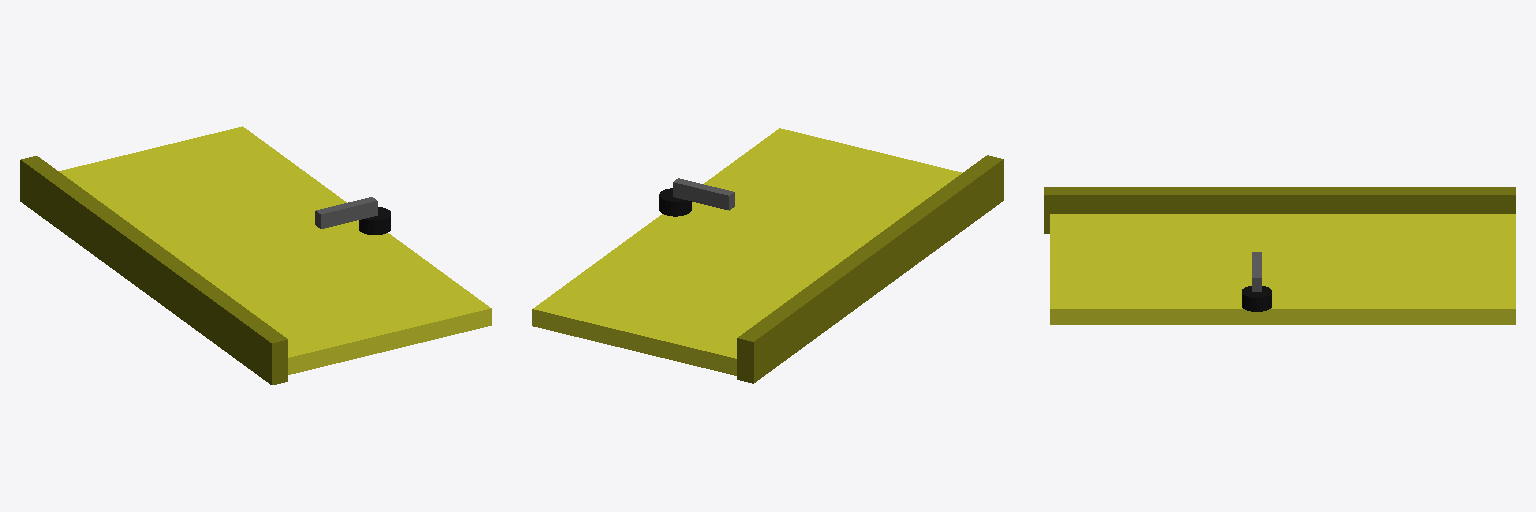
URDF robot description (door):
<robot name="door">
  
  <link name="door_pole">
    <visual>
      <origin xyz="0 0.46 0" rpy="0 0 0"/>
      <geometry>
        <box size="0.035 0.92 0.085"/>
      </geometry>
      <material name="dark_yellow">
        <color rgba="0.5 0.5 0.1 1"/>
      </material>
    </visual>	
    <collision>
      <origin xyz="0 0.46 0" rpy="0 0 0"/>
      <geometry>
        <box size="0.035 0.92 0.085"/>
      </geometry>
    </collision>
  </link>

  <link name="door_panel">
    <visual>
      <origin xyz="0.2175 0.465 -0.0175" rpy="0 0 0"/>
      <geometry>
        <box size="0.435 0.91 0.035"/>
      </geometry>
      <material name="b">
        <color rgba="0.8 0.8 0.2 1"/>
      </material>
    </visual>	
    <collision>
      <origin xyz="0.2175 0.465 -0.0175" rpy="0 0 0"/>
      <geometry>
        <box size="0.435 0.91 0.035"/>
      </geometry>
    </collision>
  </link>

  <link name="door_handle_axel">
    <visual>
      <origin rpy="0 0 1"/>
      <geometry>
        <cylinder radius="0.03" length="0.03"/>
      </geometry>
      <material name="black">
        <color rgba="0.1 0.1 0.1 1.0"/>
      </material>
    </visual>	
    <collision>
      <origin rpy="0 0 1"/>
      <geometry>
        <cylinder radius="0.03" length="0.03"/>
      </geometry>
    </collision>
  </link>

  <link name="door_handle">
    <visual>
      <origin xyz="-0.06 0 0"/>
      <geometry>
        <box size="0.12 0.02 0.03"/>
      </geometry>
      <material name="silver">
        <color rgba="0.4 0.4 0.4 1"/>
      </material>
    </visual>
    <collision>
      <origin xyz="-0.06 0 0"/>
      <geometry>
        <box size="0.12 0.02 0.03"/>
      </geometry>
    </collision>
  </link>

  <joint name="door_panel_pole" type="revolute">
    <parent link="door_pole"/>
    <child link="door_panel"/>
    <origin xyz="0.0175 0 0"/>
    <axis xyz="0 1 0"/>
    <limit lower="-1.57" upper="0" effort="100" velocity="3"/>
  </joint>
  
  <joint name="door_handle_axel_panel" type="fixed">
    <parent link="door_panel"/>
    <child link="door_handle_axel"/>
    <origin xyz="0.4225 0.415 0.01575"/>
  </joint>

  <joint name="door_handle_axel" type="revolute">
    <parent link="door_handle_axel"/>
    <child link="door_handle"/>
    <origin xyz="0 0 0.03"/>
    <axis xyz="0 0 1"/>
    <limit lower="0" upper="1.57" effort="10" velocity="3"/>
  </joint>

</robot>

--- What the picture shows (computed from the rendered views, not written in the file) ---
3 views of the same robot in one strip: view 1: azimuth 30°, elevation 25°; view 2: azimuth 150°, elevation 25°; view 3: azimuth 270°, elevation 25° (orthographic).
Model door with 4 links and 3 joints (2 revolute, 1 fixed), rooted at door_pole, posed all joints at 0.
Visible links, largest first — view 1: door_panel, door_pole, door_handle, door_handle_axel; view 2: door_panel, door_pole, door_handle, door_handle_axel; view 3: door_panel, door_pole, door_handle_axel.
Boxes of the visible links, x1,y1,x2,y2 form: door_panel: (59, 126, 491, 374); door_pole: (20, 156, 287, 384); door_handle: (315, 197, 377, 228); door_handle_axel: (359, 207, 390, 234); door_panel: (532, 128, 961, 375); door_pole: (737, 155, 1003, 383); door_handle: (673, 178, 734, 210); door_handle_axel: (659, 188, 691, 216); door_panel: (1050, 214, 1515, 324); door_pole: (1044, 187, 1515, 233); door_handle_axel: (1242, 286, 1271, 311).
Size in the robot's own frame: 0.4875 by 0.92 by 0.1032 metres.
Geometry: primitives only (box / cylinder / sphere), no mesh files.
